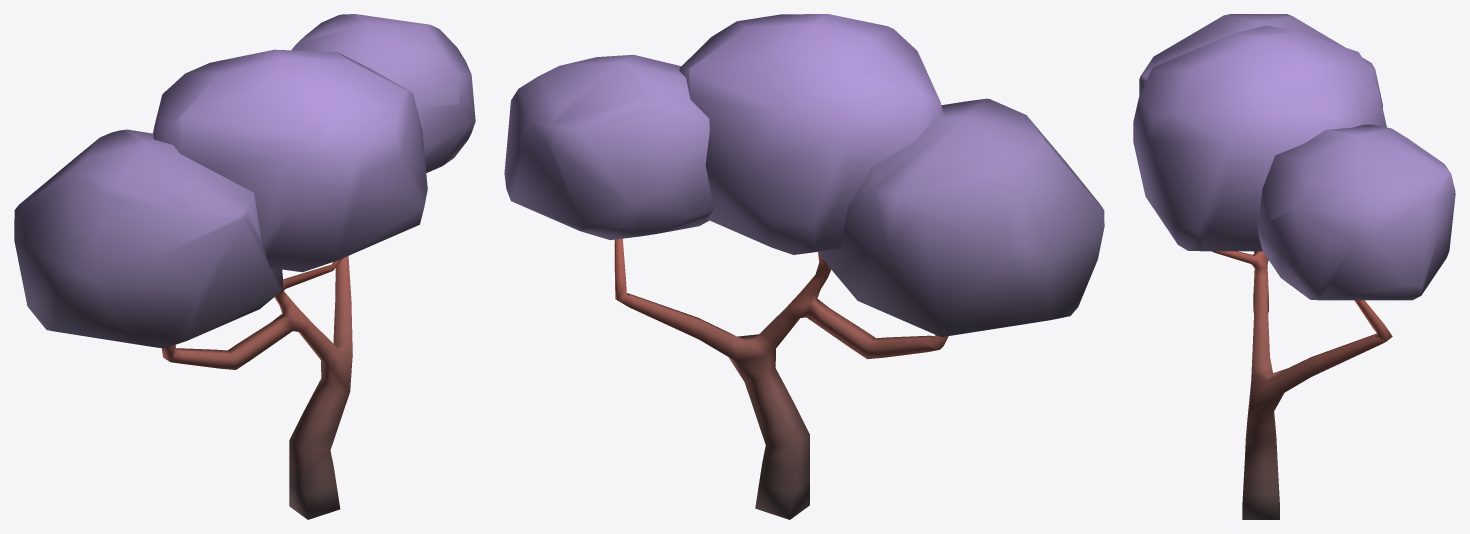
The picture shows the model from 3 angles, left to right: view 1: azimuth 30°, elevation 25°; view 2: azimuth 150°, elevation 25°; view 3: azimuth 270°, elevation 25°; orthographic projection. The views are drawn at different scales.
Visible parts, largest first — view 1: Vert.025; view 2: Vert.025; view 3: Vert.025.
Boxes of the visible parts, box(x1,y1,x2,y2) form: Vert.025: box(14, 14, 475, 519); Vert.025: box(504, 14, 1104, 519); Vert.025: box(1133, 14, 1455, 519).
Size of the model in its own units: 6.01 by 5.55 by 3.51.
Materials: 1 (1 with a texture image).
